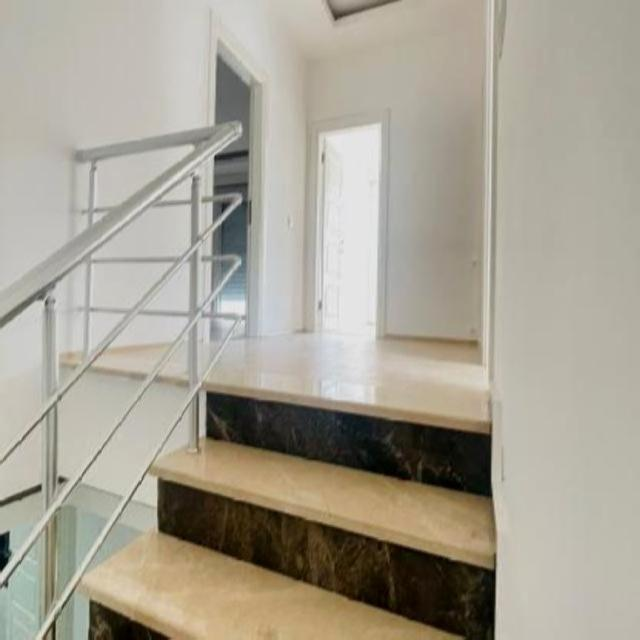stair: (0, 354, 502, 640)
